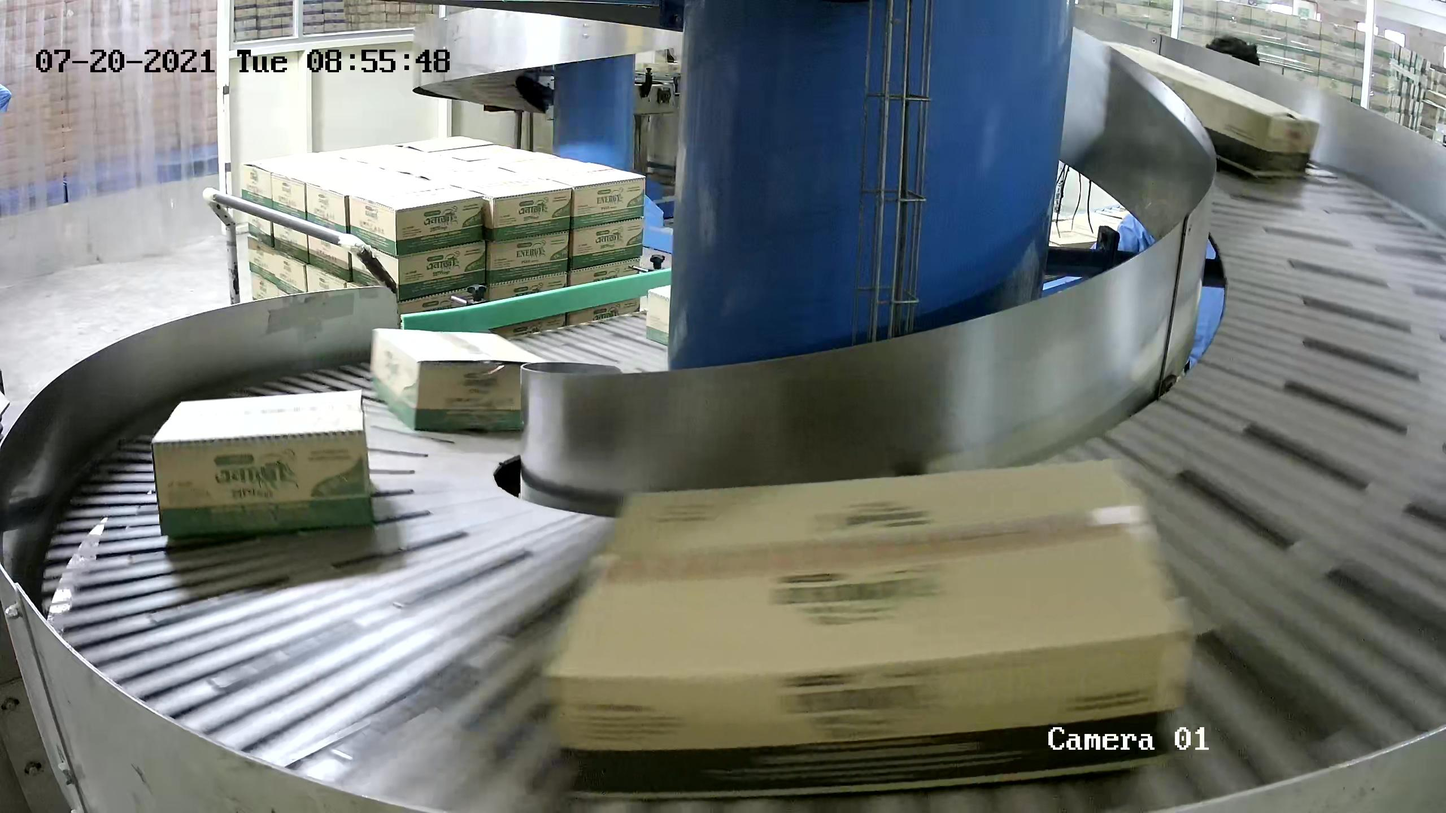Box: (539, 453, 1192, 800), (150, 388, 375, 535), (1099, 39, 1321, 177), (370, 327, 554, 430), (645, 284, 673, 346)
